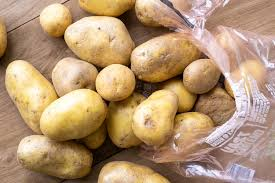potato: (38, 88, 107, 141), (132, 87, 181, 145), (92, 62, 138, 100)
